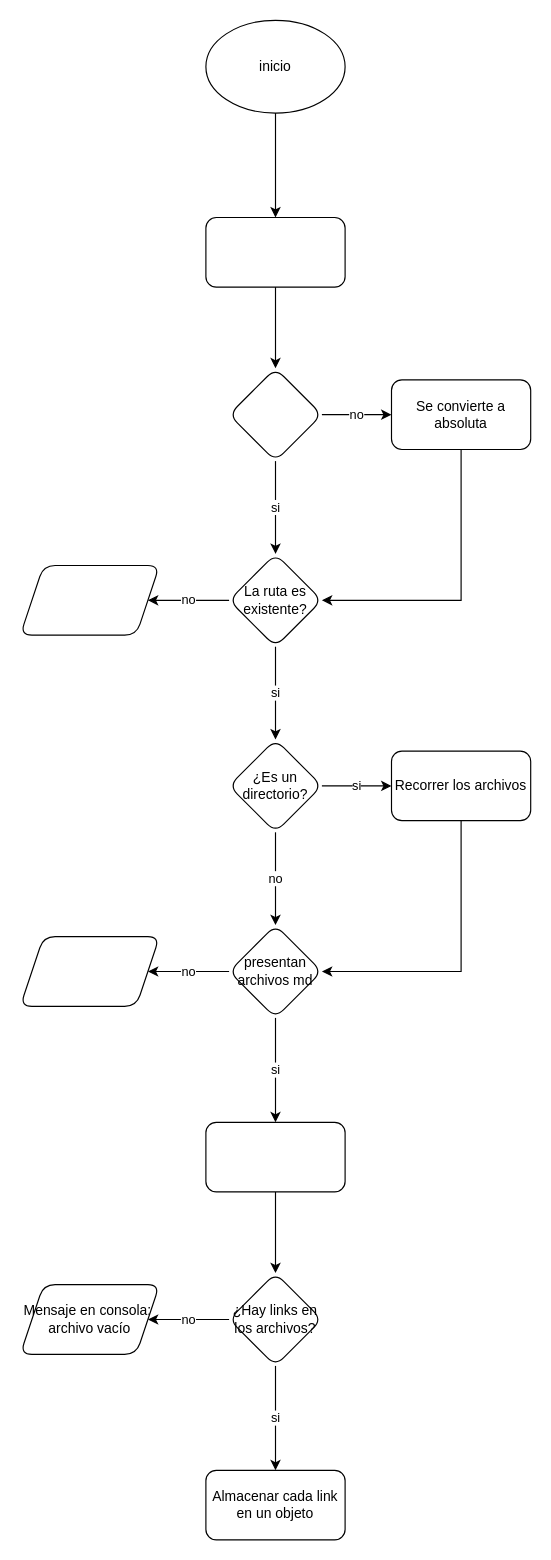
The diagram is 551 pixels wide and 1560 high, and some of its shapes have lost their labels. The centre of each missing label's shape, as x and y in pixels:
almacenar en un array los archivos md: pixel 275 1156
INGRESA PATH: pixel 275 251
mensaje en consola: no se encuentran archivos md: pixel 89 971
muestra error en consola: pixel 89 599
¿es absoluta?: pixel 275 414
